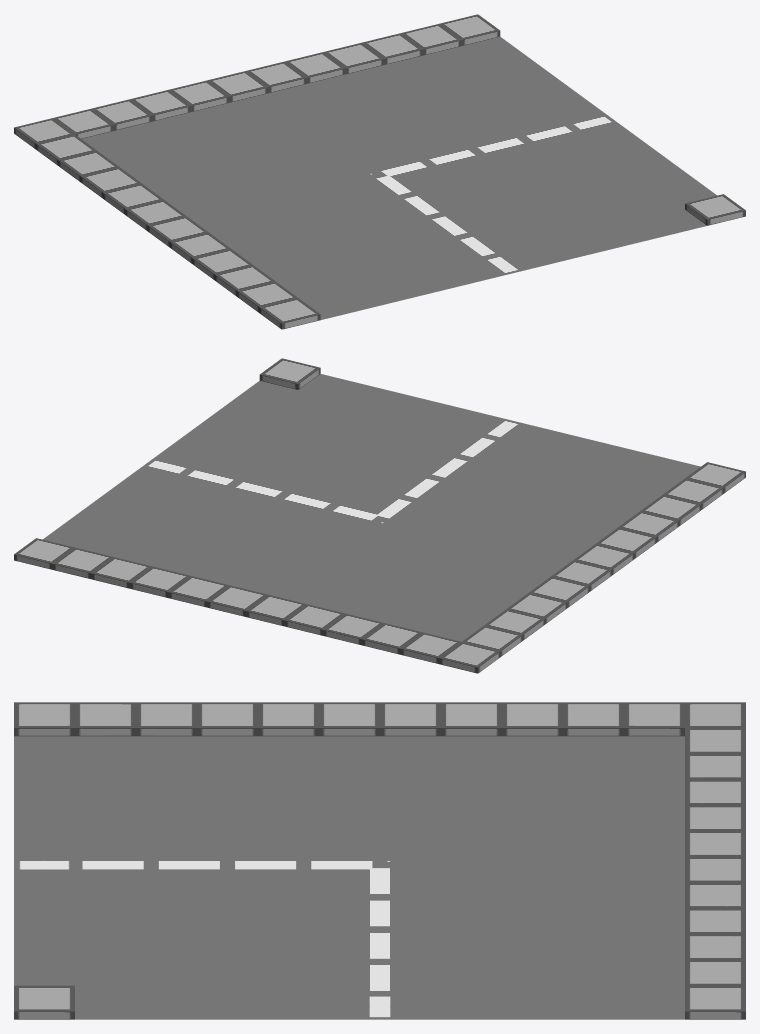
The model's file is road_corner.fbx.
3 renders of one model, top to bottom at view 1: azimuth 30°, elevation 25°; view 2: azimuth 150°, elevation 25°; view 3: azimuth 270°, elevation 25°, orthographic. The views are drawn at different scales.
Visible parts, largest first — view 1: street.001; view 2: street.001; view 3: street.001.
Boxes of the visible parts, <box> form: street.001: <box>14,14,745,329</box>; street.001: <box>14,358,745,673</box>; street.001: <box>14,702,745,1019</box>.
Size of the model in its own units: 1200 by 15 by 1200.
1 material, 1 textured.
